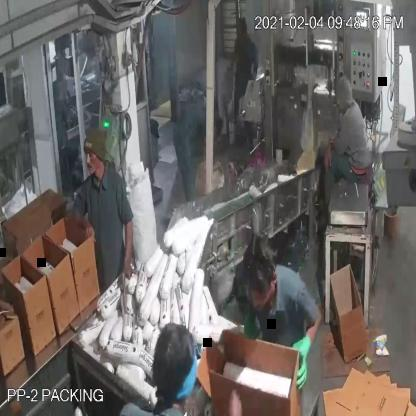glove: (288, 332, 316, 394)
no_glove: (115, 209, 138, 285), (69, 199, 97, 248), (318, 142, 338, 175)
